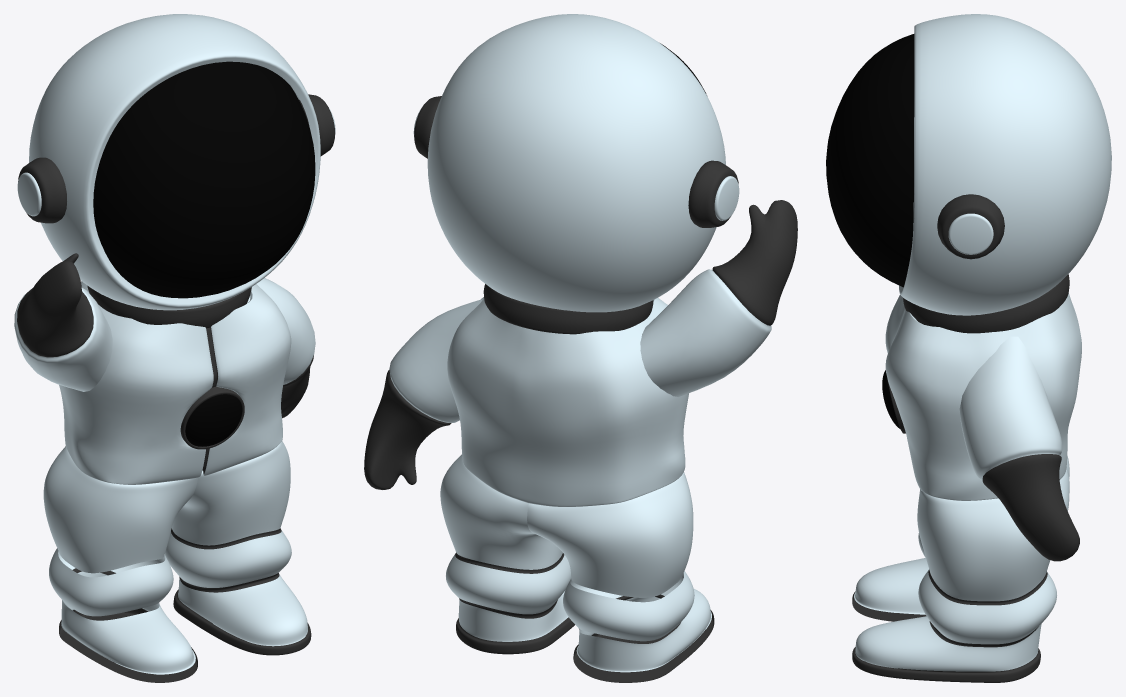
File: astronaut3.glb
The picture shows the model from 3 angles, left to right: view 1: azimuth 30°, elevation 25°; view 2: azimuth 150°, elevation 25°; view 3: azimuth 270°, elevation 25°; orthographic projection. The views are drawn at different scales.
Visible parts, largest first — view 1: Head.001, Body, Head, Leg_R, Leg_L, Arm_R.001, Arm_R, Body.001, Arm_L, Sphere, Head.003, Leg_R.001 (+6 smaller); view 2: Head, Body, Leg_R, Leg_L, Arm_R, Arm_R.001, Arm_L, Arm_L.001, Body.001, Leg_R.001, Head.003, Leg_L.001 (+3 smaller); view 3: Head, Leg_L, Body, Head.001, Arm_L, Arm_L.001, Body.001, Leg_R, Leg_L.001, Head.002, Head.004, Leg_L.002 (+1 smaller).
Boxes of the visible parts, <box> form: Head.001: <box>93,61,315,298</box>; Body: <box>59,281,291,484</box>; Head: <box>29,14,320,310</box>; Leg_R: <box>43,446,198,674</box>; Leg_L: <box>164,441,307,646</box>; Arm_R.001: <box>17,253,93,357</box>; Arm_R: <box>14,287,112,391</box>; Body.001: <box>87,285,251,328</box>; Arm_L: <box>247,278,315,384</box>; Sphere: <box>185,394,242,446</box>; Head.003: <box>18,157,66,223</box>; Leg_R.001: <box>59,608,197,682</box>; Head: <box>427,14,725,312</box>; Body: <box>447,297,688,506</box>; Leg_R: <box>527,472,711,672</box>; Leg_L: <box>440,454,571,641</box>; Arm_R: <box>640,269,771,396</box>; Arm_R.001: <box>712,200,797,325</box>; Arm_L: <box>389,299,482,422</box>; Arm_L.001: <box>364,370,451,489</box>; Body.001: <box>483,284,653,334</box>; Leg_R.001: <box>573,610,714,682</box>; Head.003: <box>688,160,738,227</box>; Leg_L.001: <box>456,617,574,654</box>; Head: <box>898,14,1111,315</box>; Leg_L: <box>855,468,1069,671</box>; Body: <box>885,293,1081,500</box>; Head.001: <box>826,34,914,287</box>; Arm_L: <box>959,336,1062,480</box>; Arm_L.001: <box>982,454,1079,561</box>; Body.001: <box>903,274,1069,333</box>; Leg_R: <box>854,456,1069,614</box>; Leg_L.001: <box>852,647,1040,682</box>; Head.002: <box>937,194,1004,259</box>; Head.004: <box>948,213,993,254</box>; Leg_L.002: <box>928,569,1047,647</box>.
Size of the model in its own units: 1.71 by 2.89 by 1.24.
